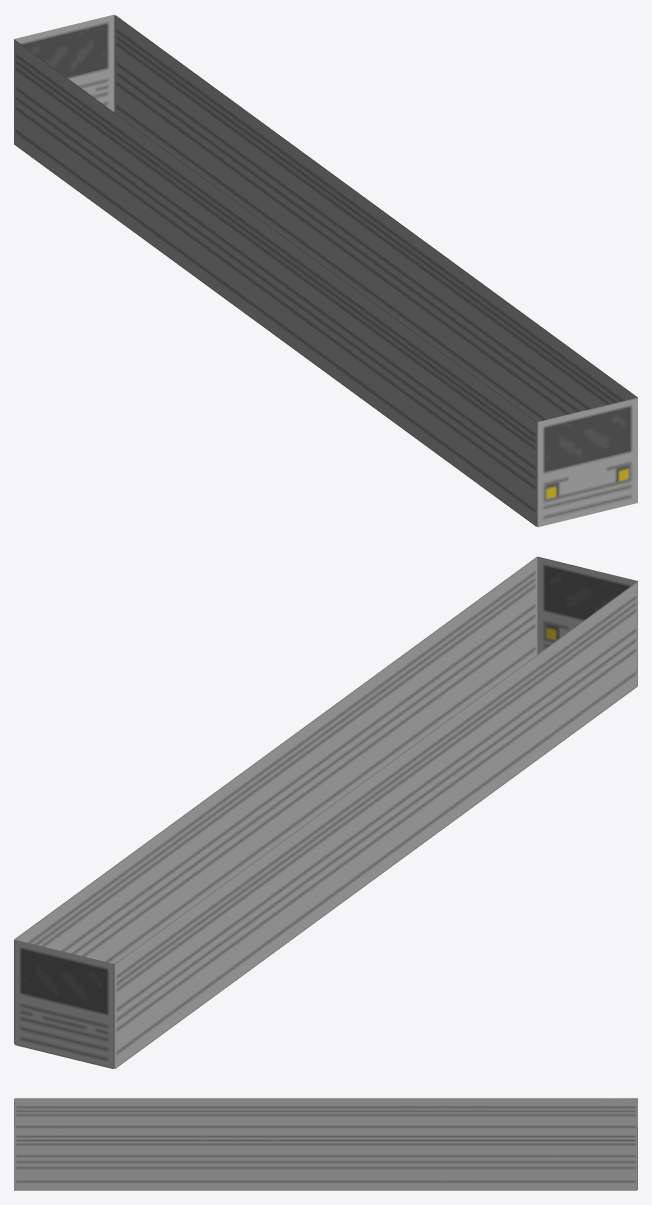
The model's file is train.fbx.
The picture shows the model from 3 angles, top to bottom: view 1: azimuth 30°, elevation 25°; view 2: azimuth 150°, elevation 25°; view 3: azimuth 270°, elevation 25°; orthographic projection. The views are drawn at different scales.
Visible parts, largest first — view 1: Cubo.002; view 2: Cubo.002; view 3: Cubo.002.
Boxes of the visible parts, bbox=[...] form: Cubo.002: bbox=[14, 14, 637, 527]; Cubo.002: bbox=[14, 556, 637, 1068]; Cubo.002: bbox=[14, 1098, 637, 1190].
Size of the model in its own units: 200 by 200 by 1800.
